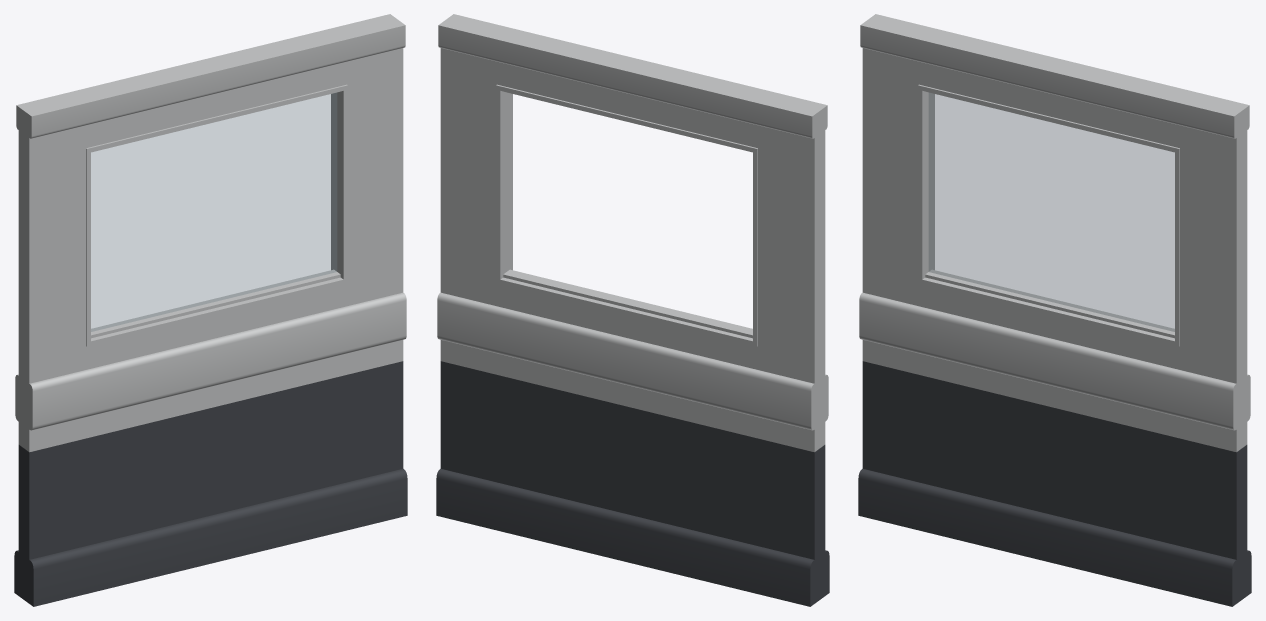
The model's file is hp_wall_window.glb.
3 views of the same model, side by side, from view 1: azimuth 30°, elevation 25°; view 2: azimuth 150°, elevation 25°; view 3: azimuth 330°, elevation 25° (orthographic).
Parts seen in each view (by area): view 1: Tile_Wall_Window; view 2: Tile_Wall_Window; view 3: Tile_Wall_Window.
Boxes of the visible parts, left/top/right/bottom form: Tile_Wall_Window: left=14, top=14, right=407, bottom=606; Tile_Wall_Window: left=436, top=14, right=829, bottom=606; Tile_Wall_Window: left=858, top=14, right=1251, bottom=606.
Bounding box in the file's own units: 3 × 3.75 × 0.2655.
